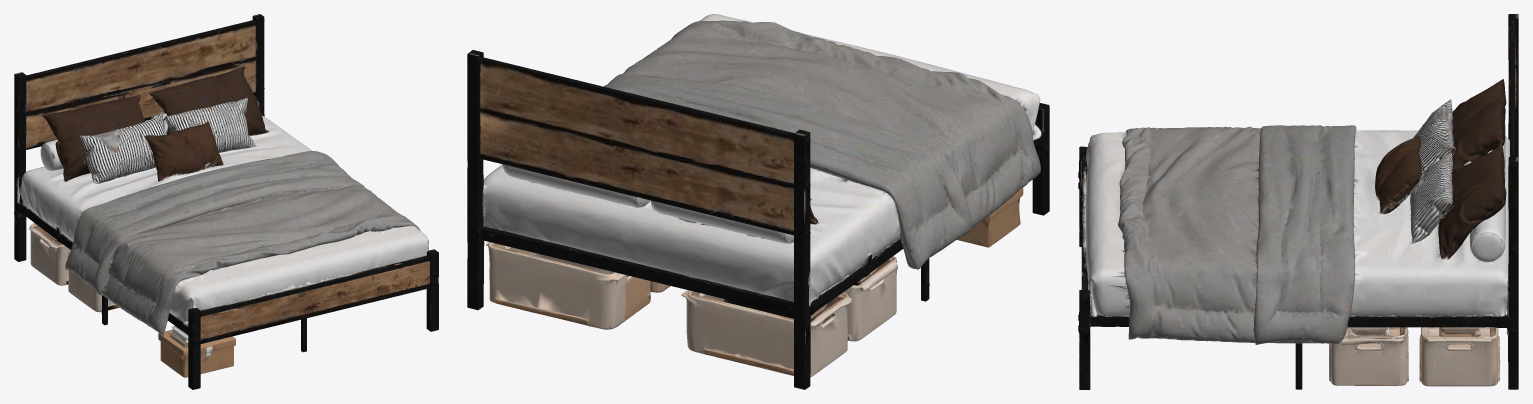
File: einzelbett-01.glb
3 renders of one model, left to right at view 1: azimuth 30°, elevation 25°; view 2: azimuth 150°, elevation 25°; view 3: azimuth 270°, elevation 25°, orthographic. The views are drawn at different scales.
Size of the model in its own units: 1.75 by 1.09 by 1.9.
Materials: 1 (1 with a texture image).
